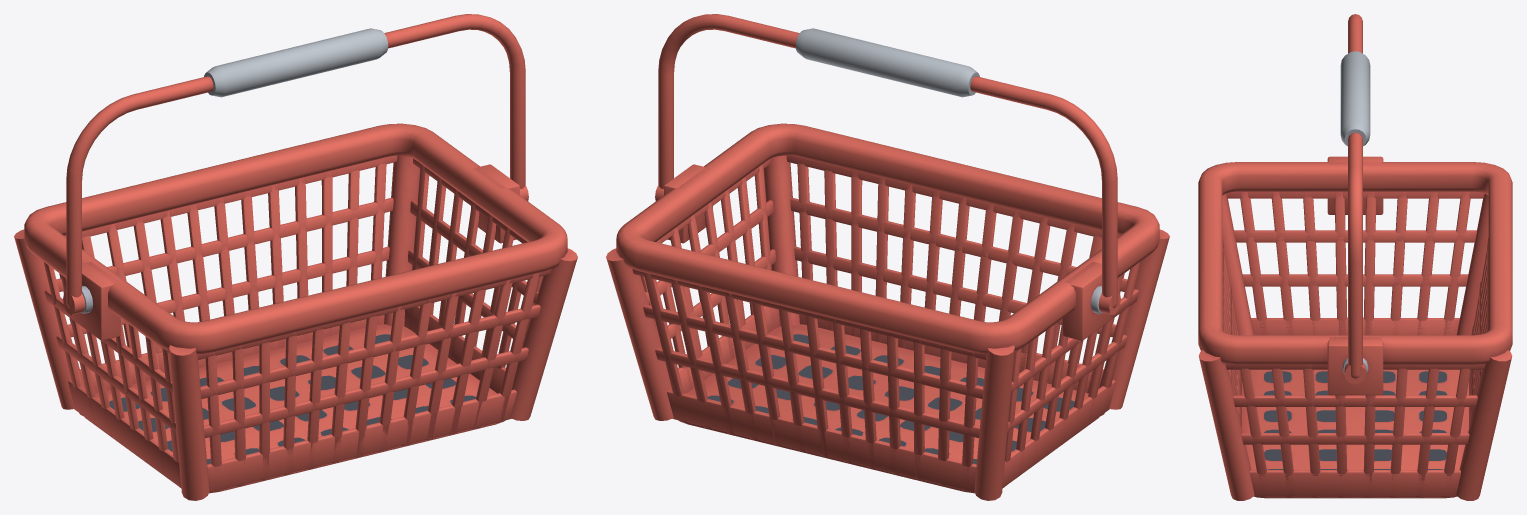
Rendered from shopping-basket.glb.
The picture shows the model from 3 angles, left to right: view 1: azimuth 30°, elevation 25°; view 2: azimuth 150°, elevation 25°; view 3: azimuth 270°, elevation 25°; orthographic projection. The views are drawn at different scales.
Parts seen in each view (by area): view 1: shopping-basket_body, shopping-basket_handle; view 2: shopping-basket_body, shopping-basket_handle; view 3: shopping-basket_body, shopping-basket_handle.
Boxes of the visible parts, box(x1,y1,x2,y2) form: shopping-basket_body: box(14, 123, 577, 500); shopping-basket_handle: box(63, 14, 528, 314); shopping-basket_body: box(606, 123, 1169, 500); shopping-basket_handle: box(655, 14, 1120, 314); shopping-basket_body: box(1198, 156, 1512, 500); shopping-basket_handle: box(1340, 14, 1370, 384).
Bounding box in the file's own units: 0.53 × 0.416 × 0.34.
Materials: 2 (2 with a texture image).
